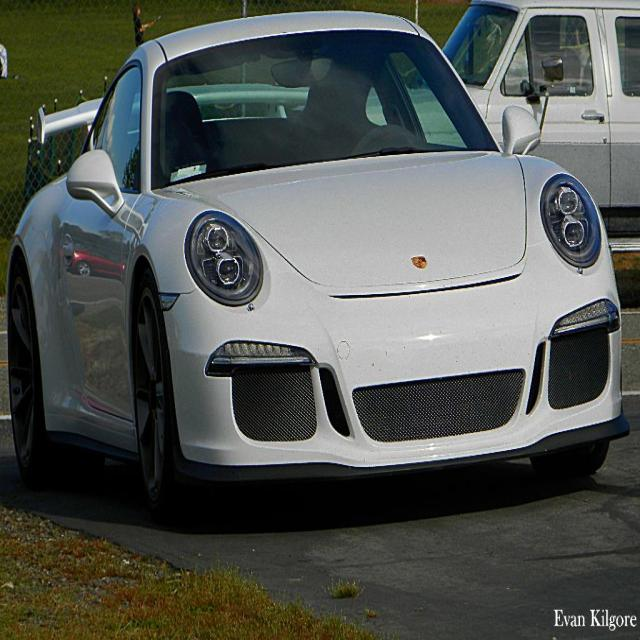car: (15, 25, 622, 515)
